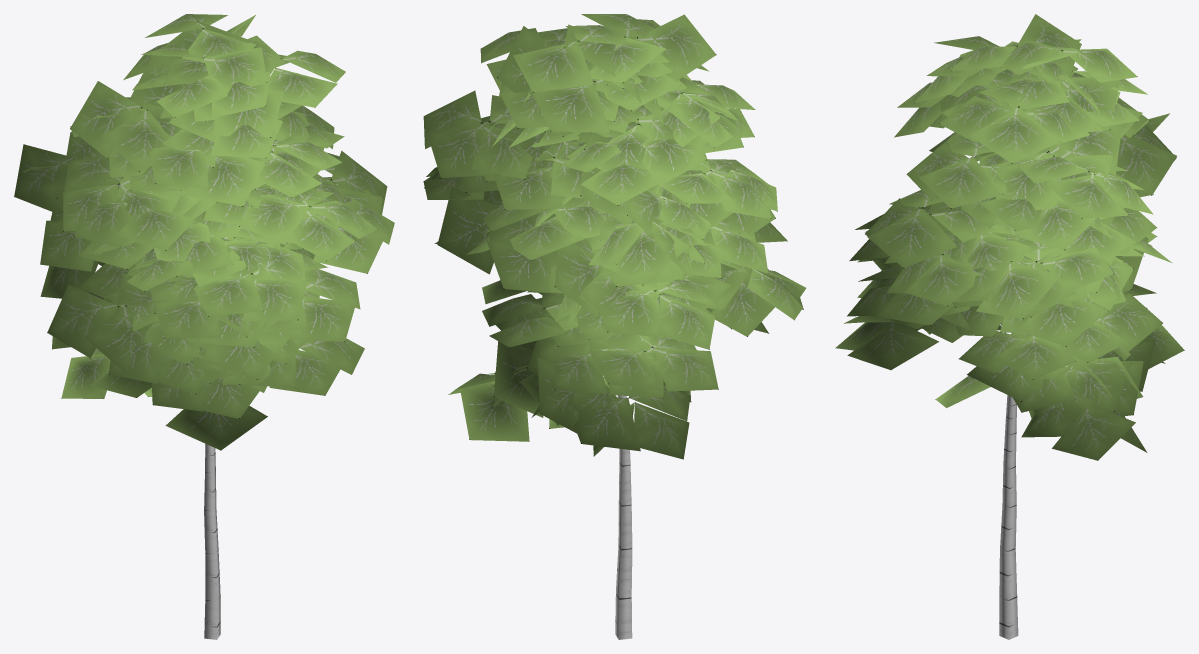
File: tree_Birch_LOD0.fbx
3 views of the same model, side by side, from view 1: azimuth 30°, elevation 25°; view 2: azimuth 150°, elevation 25°; view 3: azimuth 270°, elevation 25° (orthographic). The views are drawn at different scales.
Visible parts, largest first — view 1: Birch_LOD0; view 2: Birch_LOD0; view 3: Birch_LOD0.
Boxes of the visible parts, x1,y1,x2,y2 form: Birch_LOD0: [14, 14, 394, 639]; Birch_LOD0: [423, 14, 806, 639]; Birch_LOD0: [835, 14, 1184, 639].
Bounding box in the file's own units: 857 × 1391 × 736.
